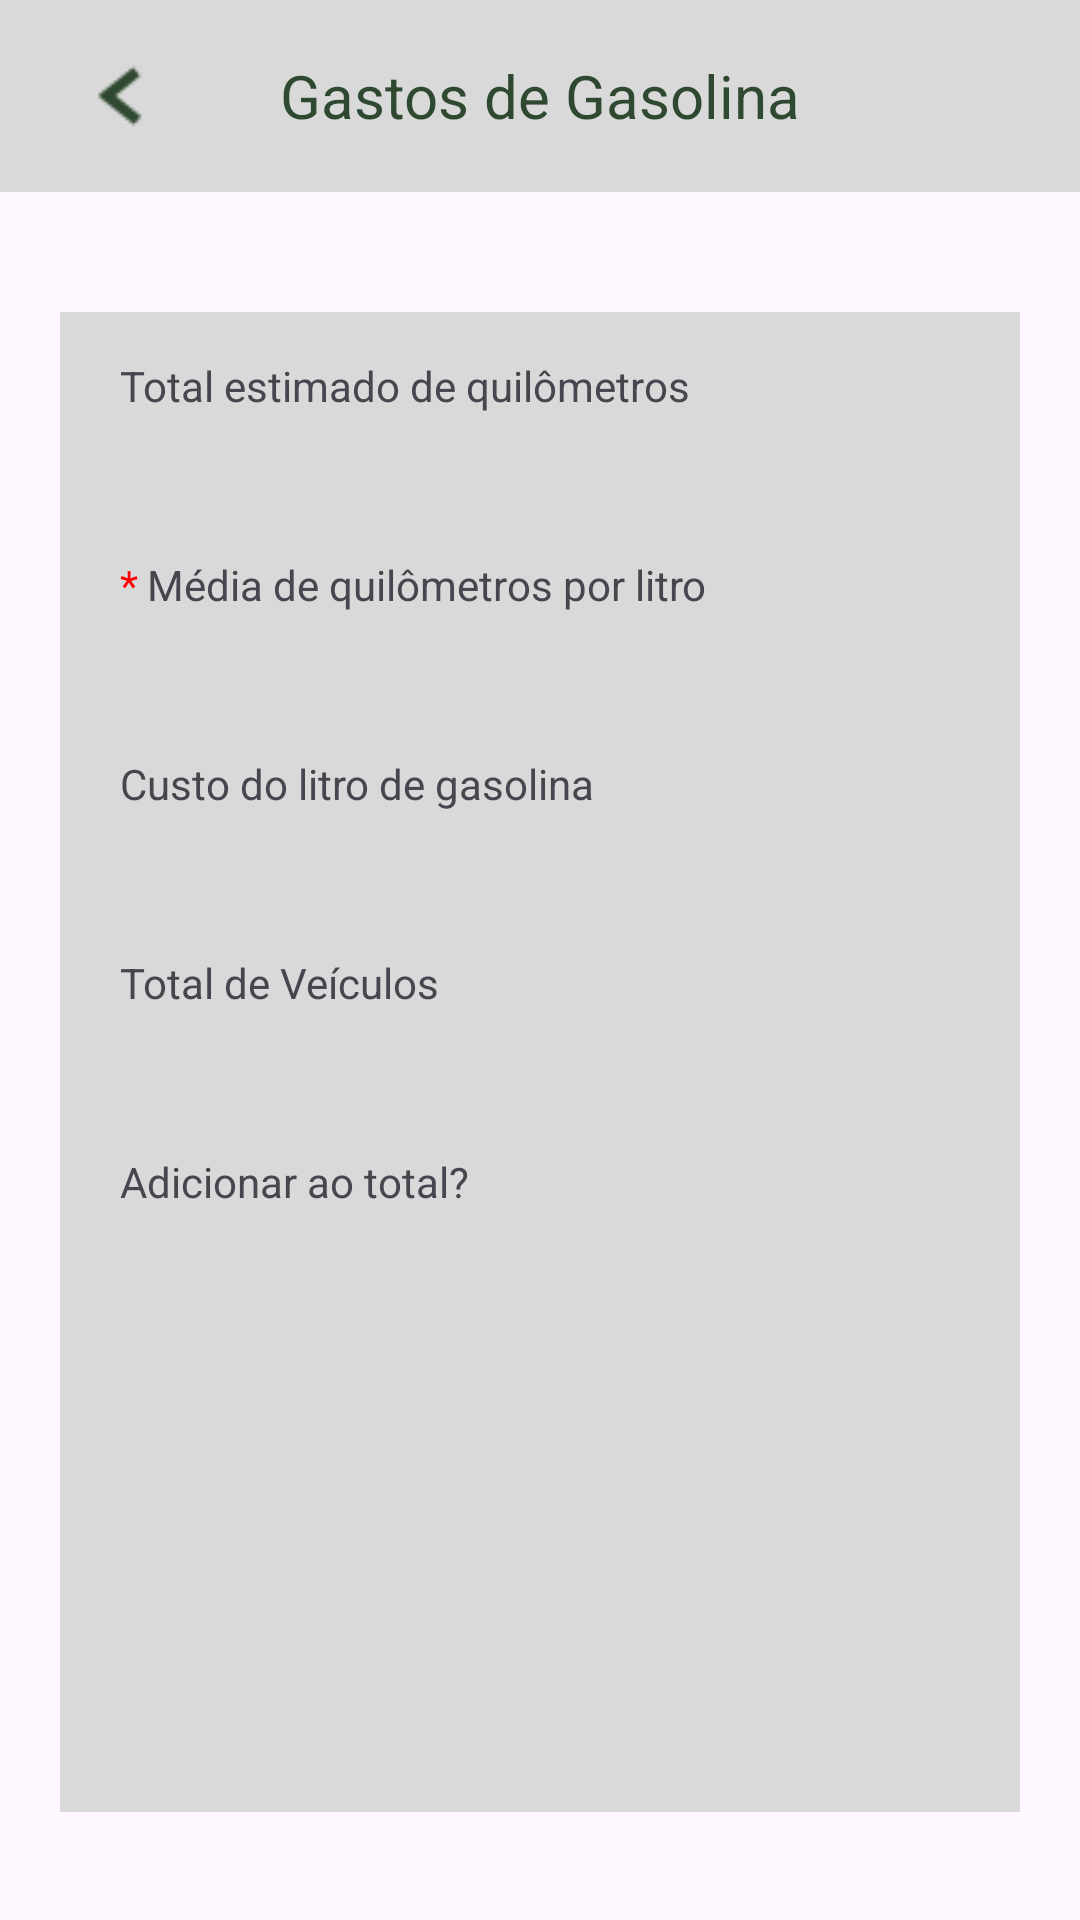

Where icons sit on this 1080px×1920px app screen, as (x1, y1, x2, y2):
Voltar: (98, 66, 142, 126)
